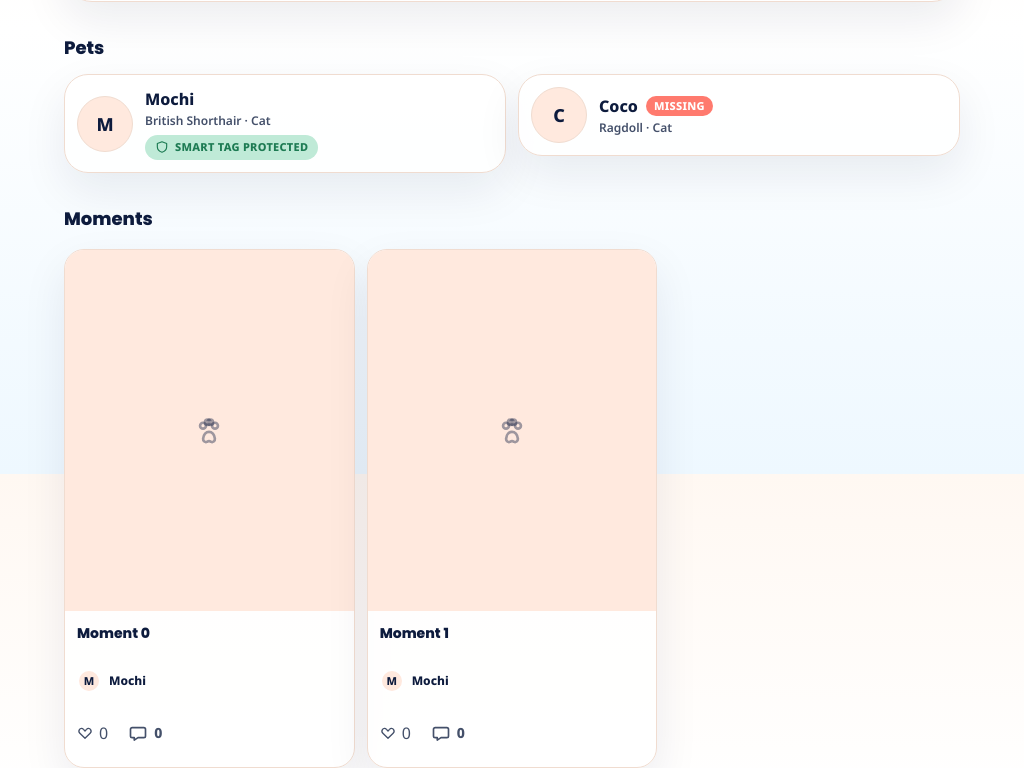
Test case: OwnerSocialProfileView › likes one Moment from the grid without disturbing the others
(page scrolled)
Click the button with test id "like-button" at (93, 733), box [69,715,116,751]
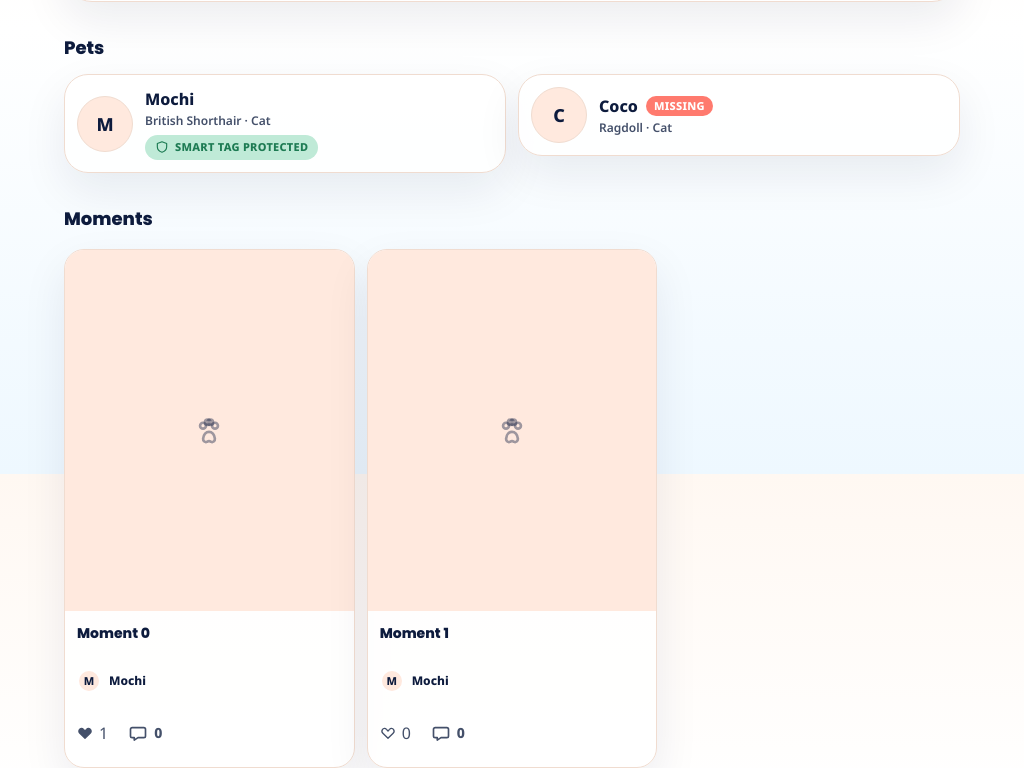
Expected: the 2nd text with test id "like-count" reads "0", [402,722,411,744]
Expected: the text with test id "like-count" reads "1", [99,722,108,744]
